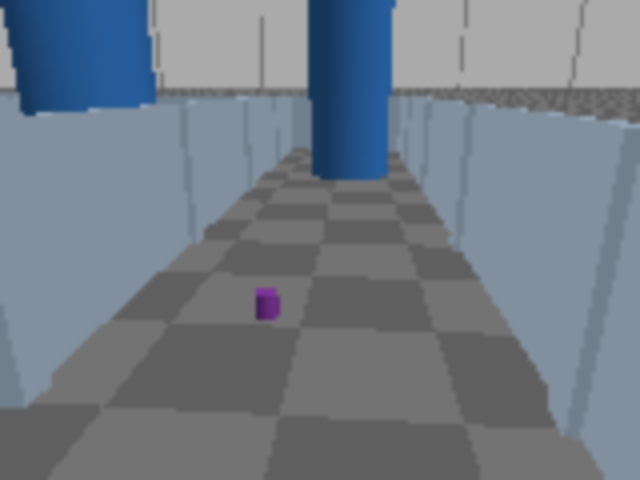puck: (255, 289, 277, 319)
